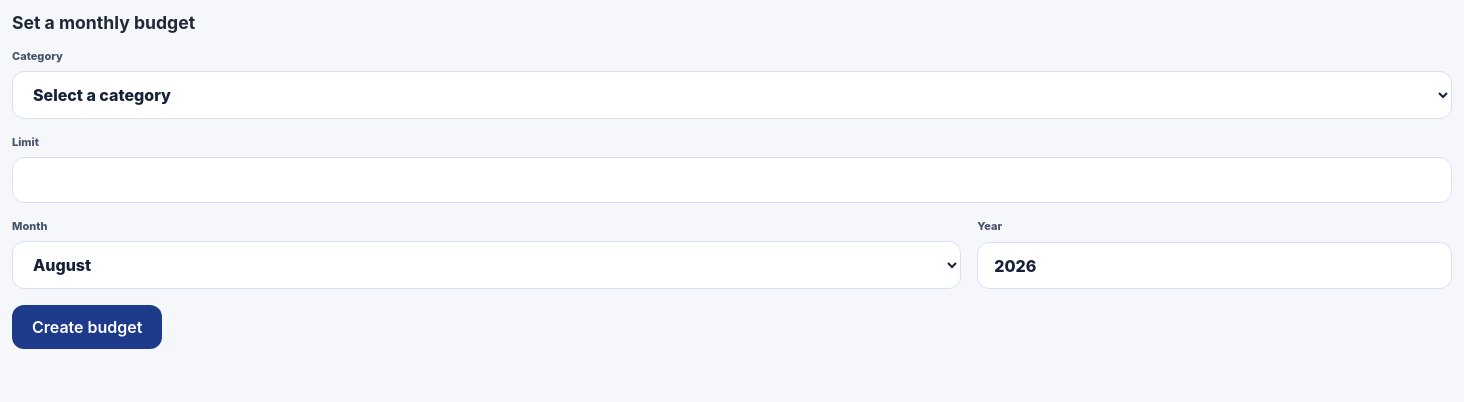
Test case: BudgetForm › rejects submit without a category
This screenshot has width=1464, height=402.
Type "300" into the number field labelled "Limit" at (732, 180), box 12,157 -> 1452,203
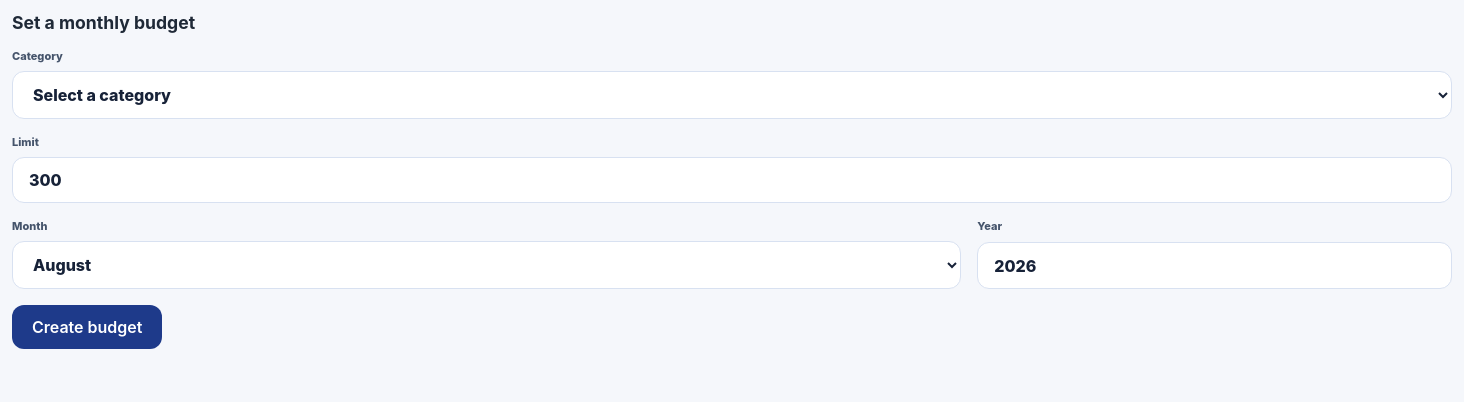
Click the button "Create budget" at (87, 327), box 12,305 -> 162,349
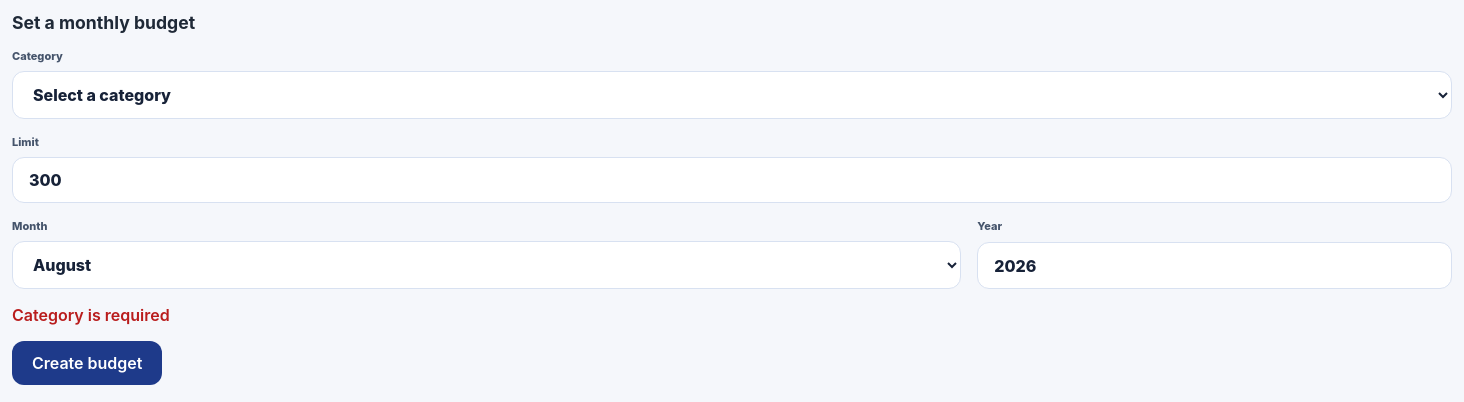
Now the message reads "Category is required", box 12,305 -> 170,325
